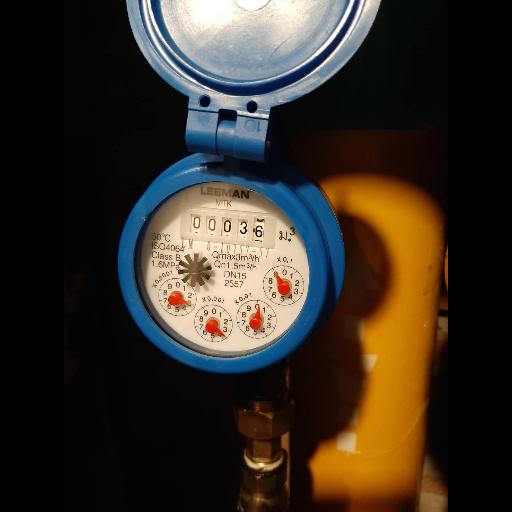0: (205, 215, 218, 235), (190, 214, 202, 234), (221, 217, 233, 237)
3: (237, 219, 250, 239)
6: (251, 218, 267, 243)
border_water_meter_number: (178, 205, 278, 250)
